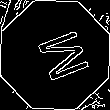M_W: (23, 24, 87, 86)
